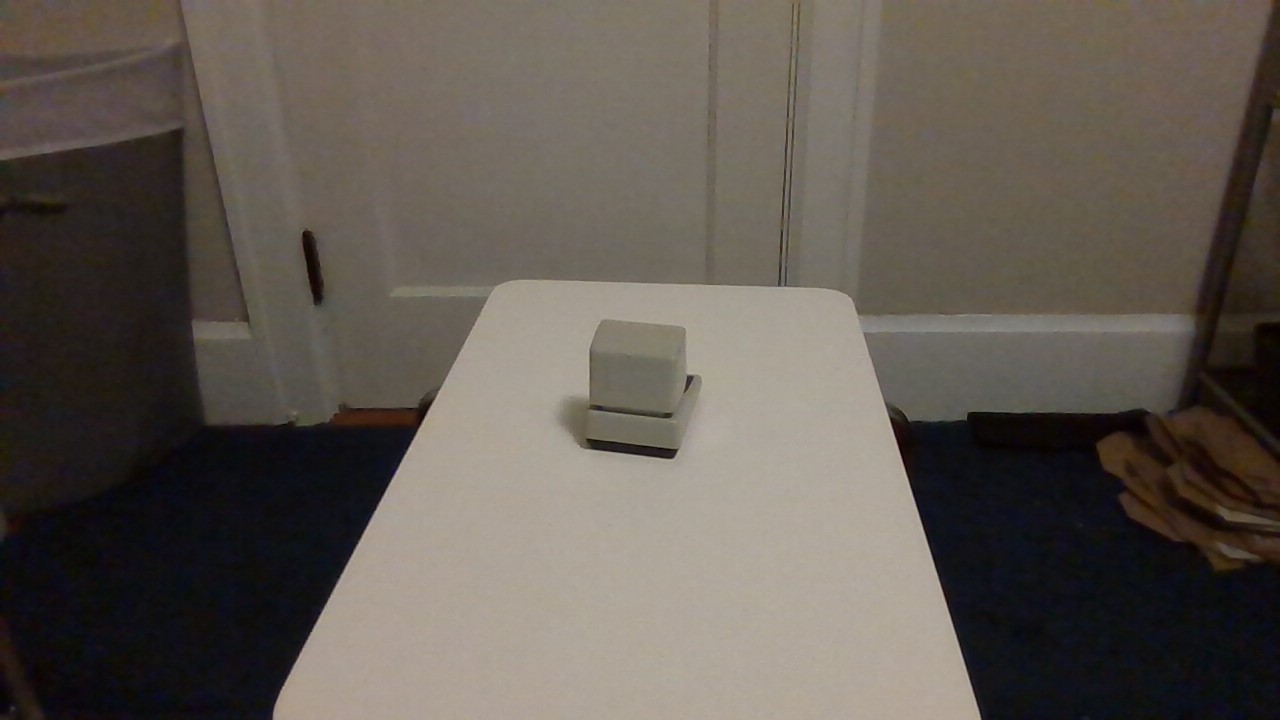Toy: (559, 299, 734, 480)
